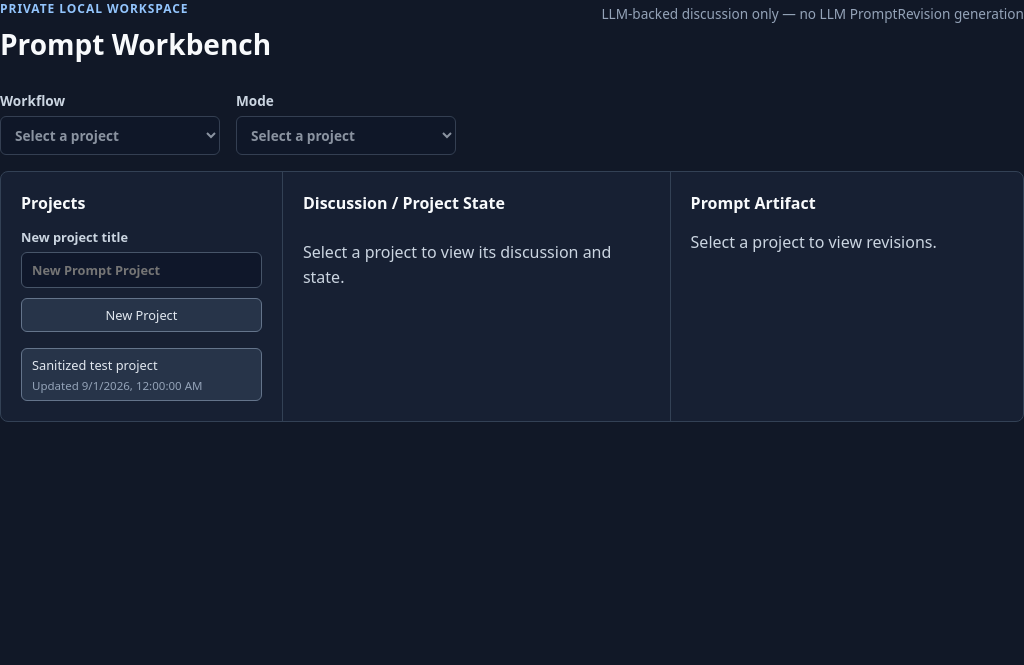
Scenario: Prompt Workbench persistence UI › loads built-in workflow metadata, persists mode selection, and exposes context preview
The width and height of the screenshot is (1024, 665).
Click the button "Sanitized test project Updated 9/1/2026, 12:00:00 AM" at (141, 374), box [21,348,262,401]
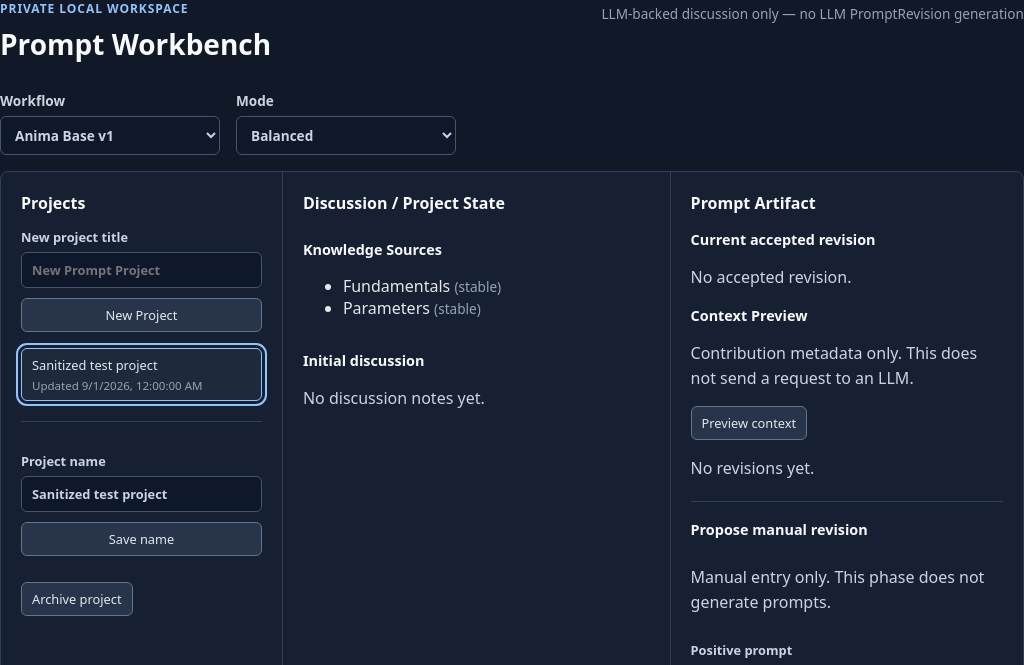
Expected: the text "No discussion notes yet." is shown, [303,387,485,409]
Expected: the dropdown labelled "Workflow" shows "Anima Base v1", [0,116,220,155]
Expected: the dropdown labelled "Mode" shows "Balanced"
Select "Preserve" in the dropdown labelled "Mode" at (346, 136), box [236,116,456,155]
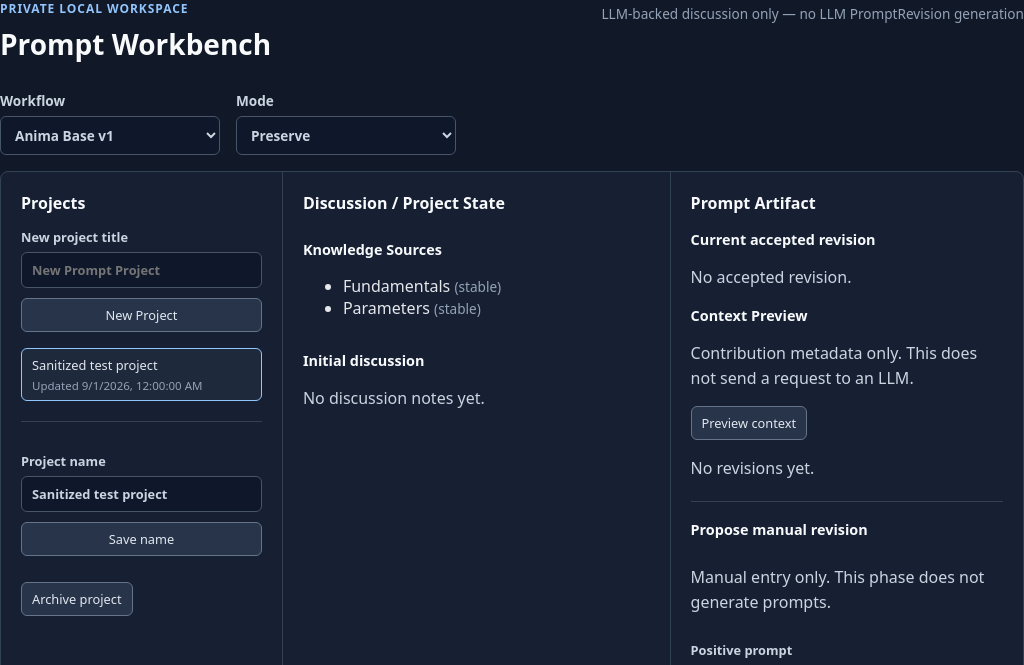
Click the button "Preview context" at (749, 423), box [691,406,807,440]
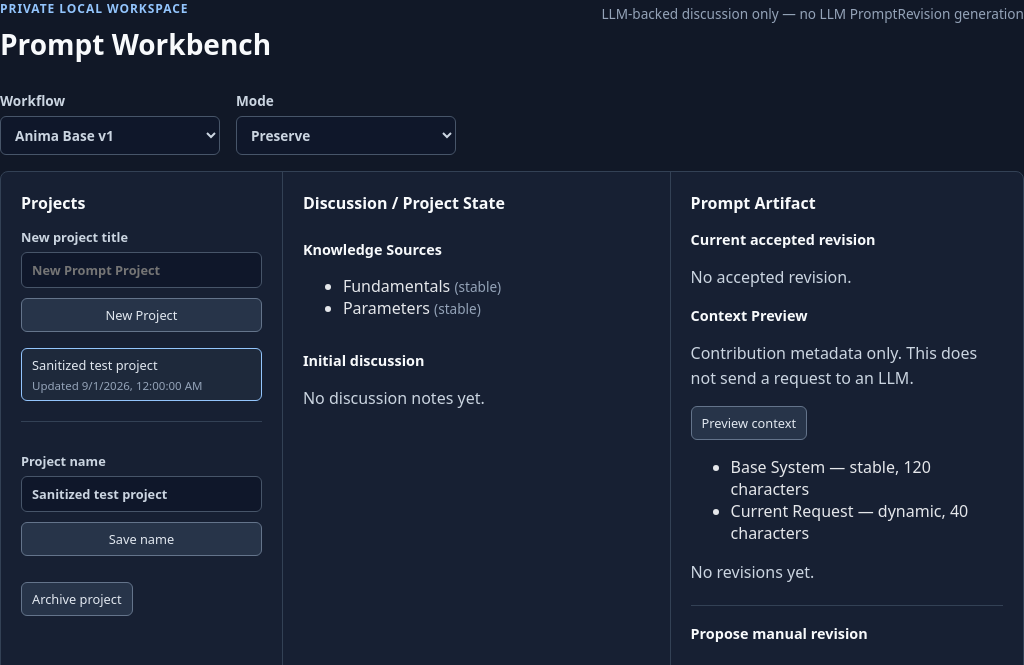
Expected: the list item "Base System — stable, 120 characters" is shown, [731,456,931,500]
